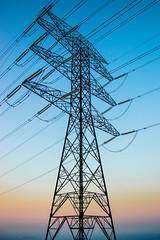power_tower: (27, 5, 123, 240)
